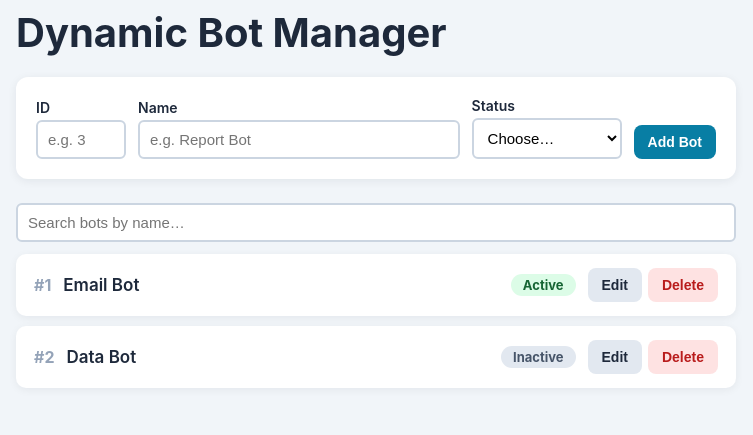
Scenario: will not add a bot with empty fields or a duplicate ID
This screenshot has width=753, height=435.
Click the button "Add Bot" at (675, 142), box [634,125,716,159]
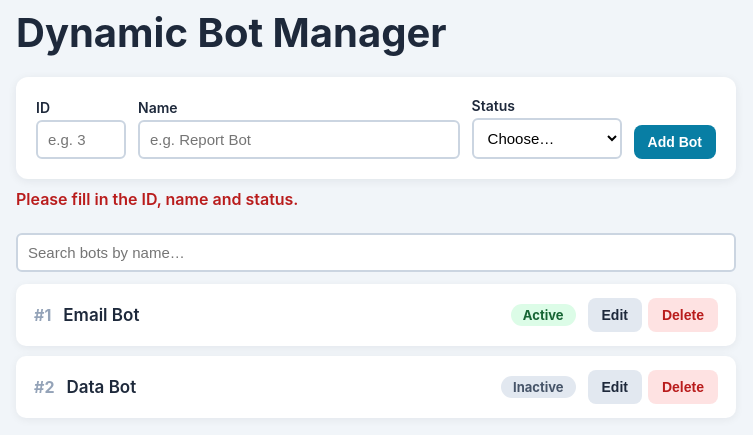
Expected: the message shows "Please fill in", [16,189,298,209]
Type "1" into the field labelled "ID" at (81, 140), box [36,120,126,159]
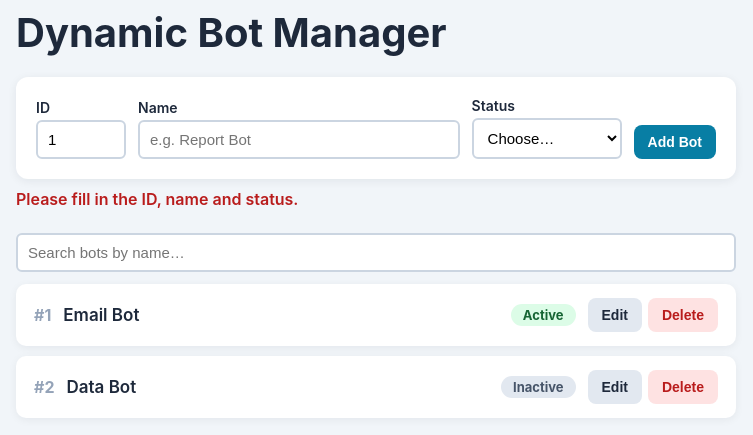
Type "Copy Bot" into the field labelled "Name" at (299, 140), box [138,120,460,159]
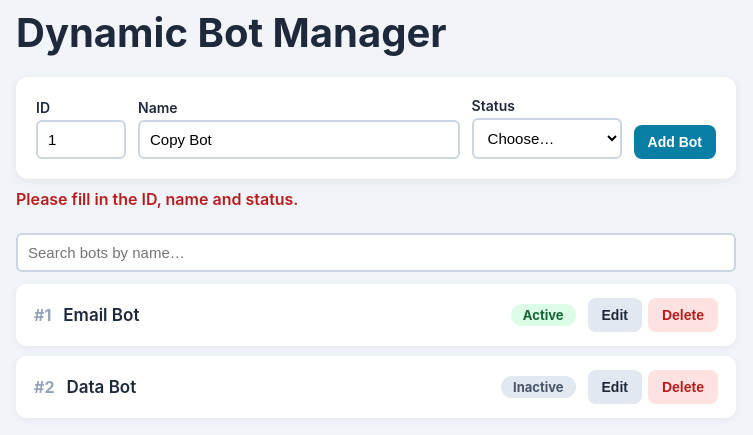
Select "Active" in the dropdown labelled "Status" at (547, 138), box [472,118,622,159]
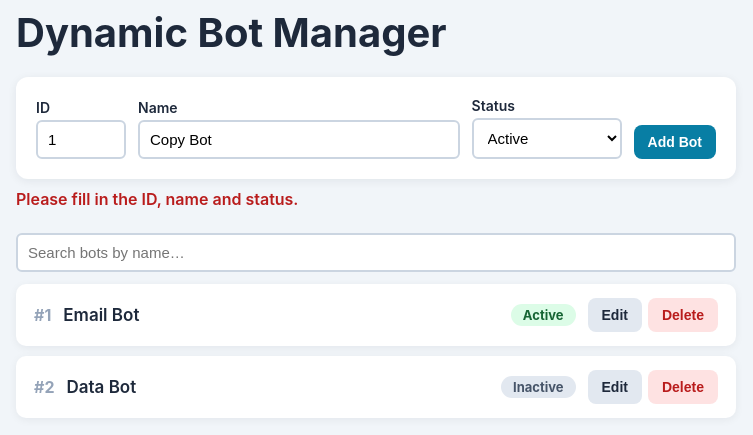
Click the button "Add Bot" at (675, 142), box [634,125,716,159]
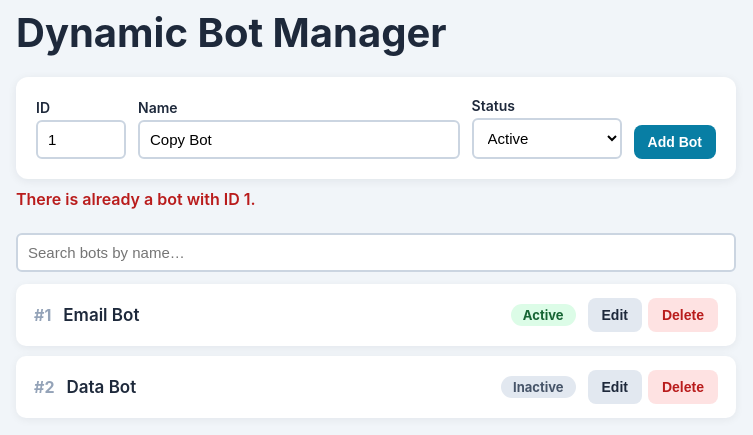
Expected: the message shows "already a bot with ID 1", [16,189,256,209]
